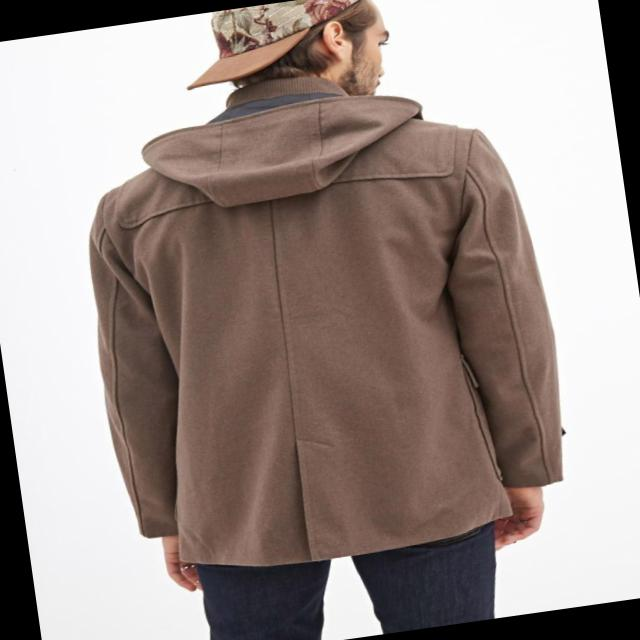Jacket: (64, 70, 586, 582)
